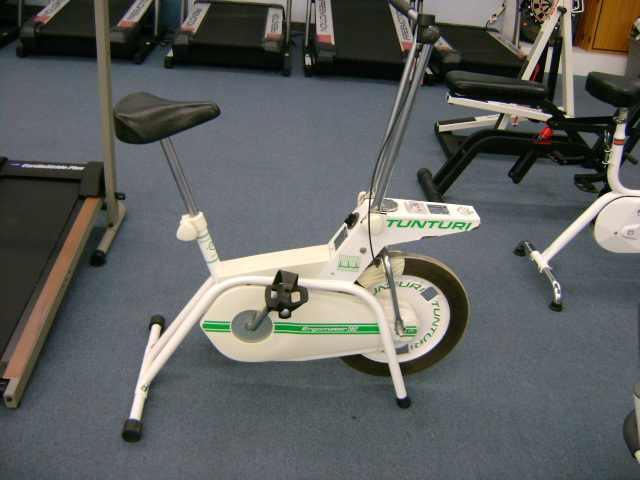gym_bike: (95, 73, 473, 429)
